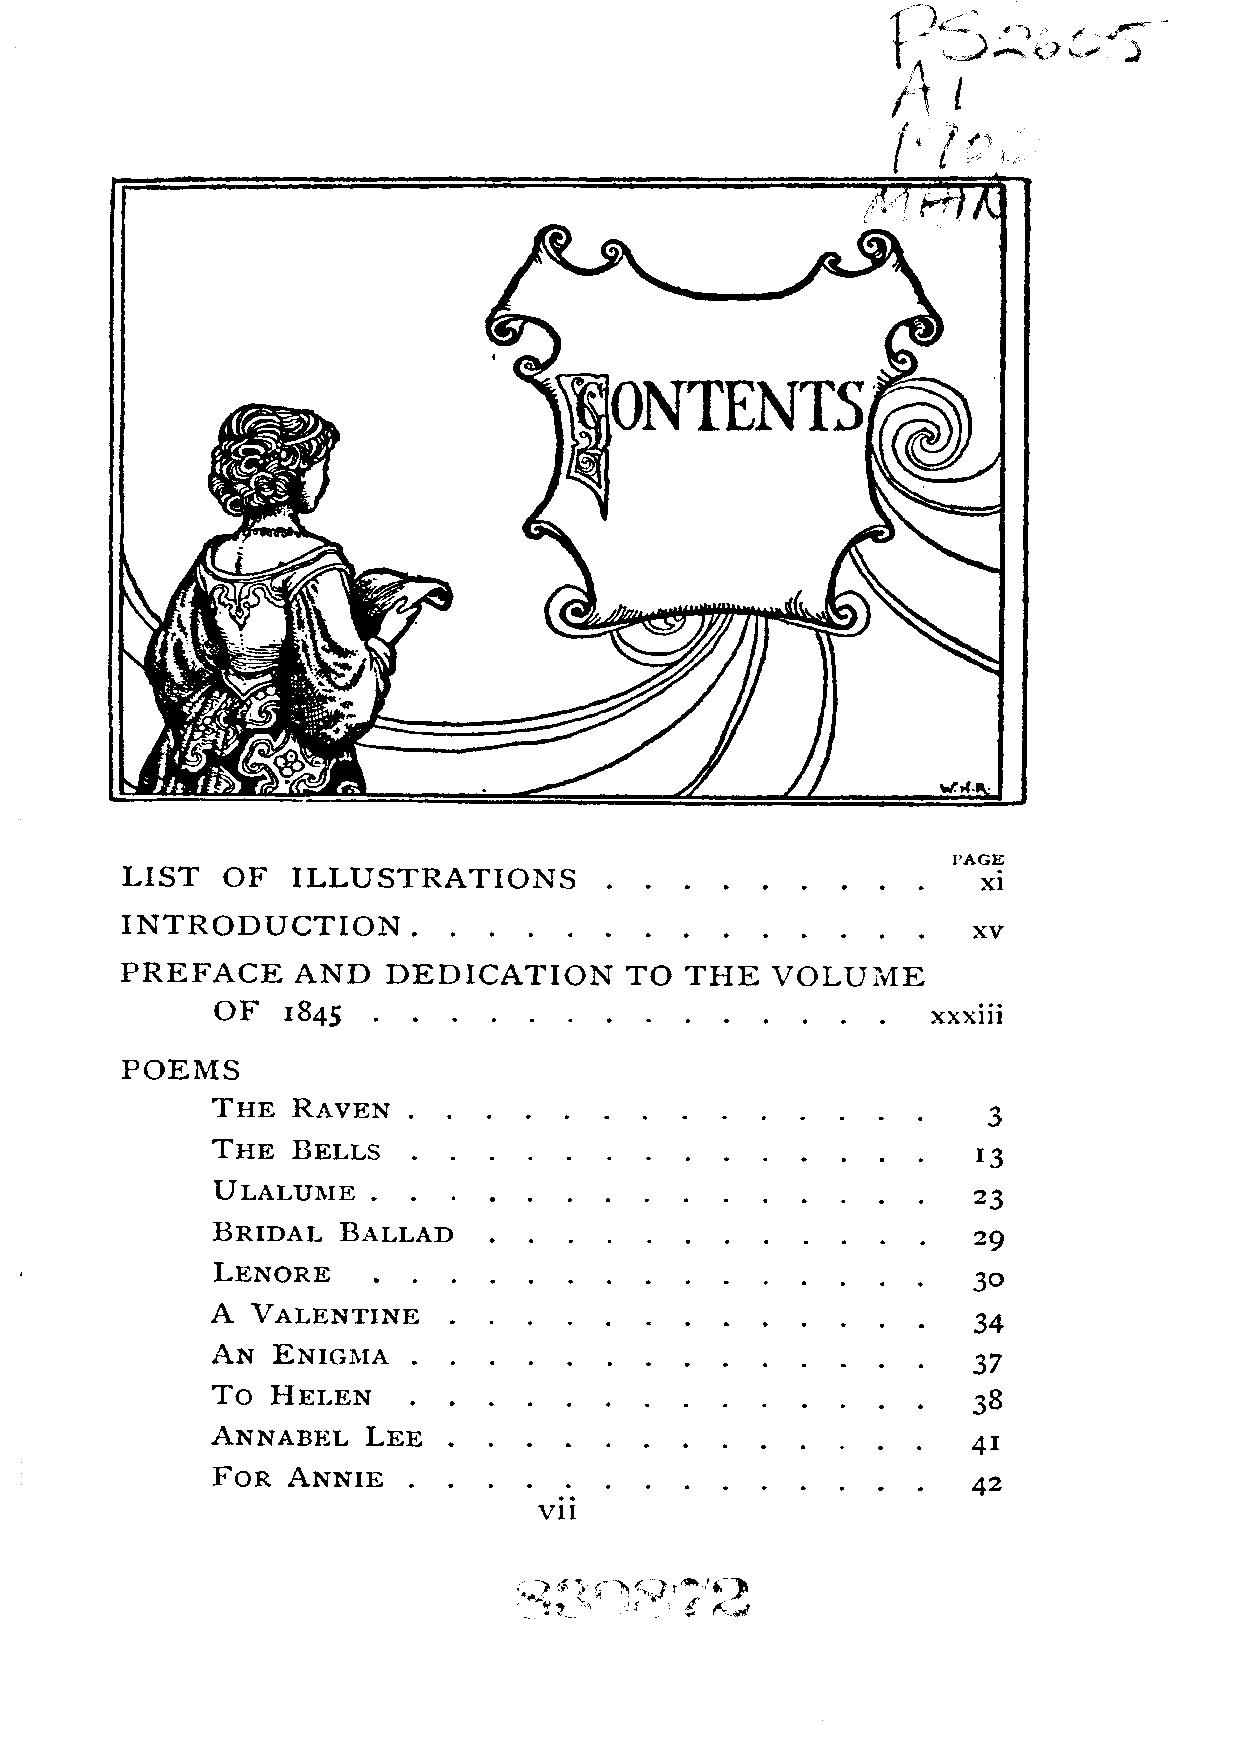TOC_chapter: (117, 956, 926, 990), (118, 860, 580, 892), (117, 907, 405, 939), (209, 1420, 425, 1452), (209, 1219, 459, 1245), (208, 1299, 425, 1329), (207, 1091, 396, 1122), (207, 1134, 386, 1166), (209, 1341, 389, 1372), (209, 1378, 377, 1410), (209, 1463, 391, 1492), (213, 996, 345, 1031), (212, 1176, 360, 1204), (119, 1053, 240, 1082), (209, 1257, 333, 1284)
TOC_pagenumber: (930, 998, 1011, 1027), (969, 1388, 1006, 1417), (970, 1268, 1009, 1294), (972, 1186, 1005, 1215), (968, 917, 1006, 941), (972, 1308, 1002, 1338), (972, 1227, 1005, 1253), (972, 1350, 1004, 1376), (966, 1433, 1000, 1457), (968, 1475, 1004, 1496), (973, 1145, 1002, 1169), (980, 872, 1011, 892), (984, 1104, 1002, 1129)
chapter: (568, 370, 866, 435)
content_pagenumber: (530, 1492, 582, 1522)
